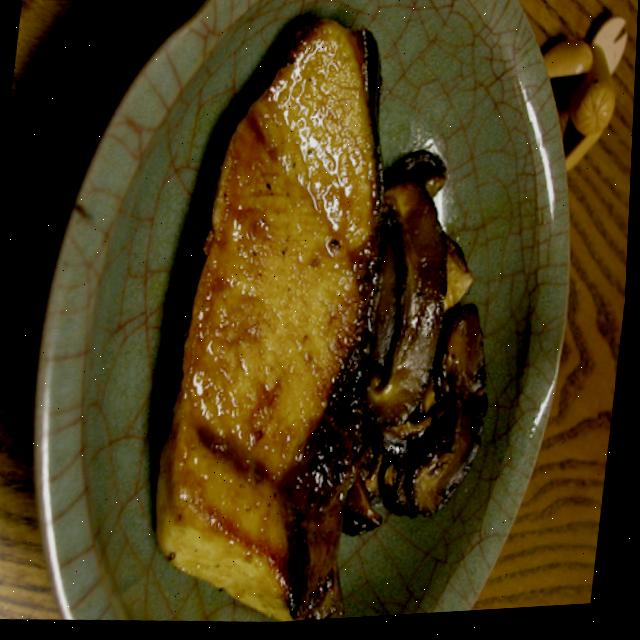熟制海鲜: (132, 0, 415, 633)
